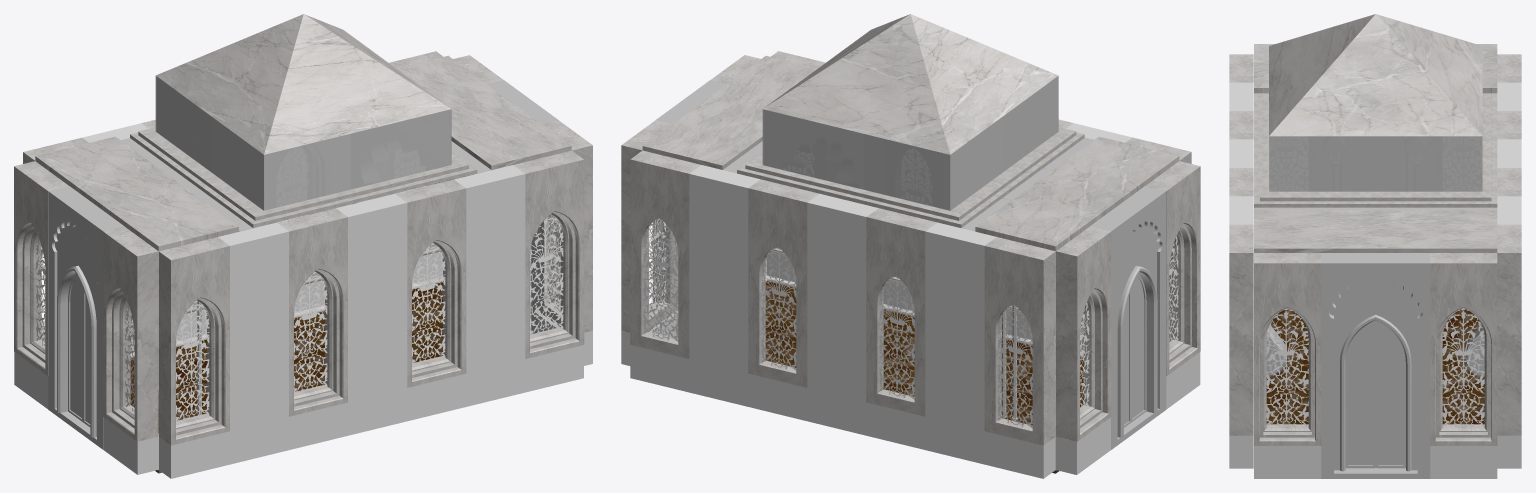
The model's file is thinkimgonnadieinthishouse.fbx.
The picture shows the model from 3 angles, left to right: view 1: azimuth 30°, elevation 25°; view 2: azimuth 150°, elevation 25°; view 3: azimuth 270°, elevation 25°; orthographic projection.
Visible parts, largest first — view 1: Cube, Cube.001, Group_38.001, Group_38.002, Group_38.003, Group_12, Component_12_9.005, Component_12_9.004, Polygon, Component_12_9.002, Component_12_9.003, Group_11 (+23 smaller); view 2: Cube, Cube.001, Group_38.004, Group_38.005, Group_38.006, Group_12, Component_12_9.006, Component_12_9.010, Polygon, Component_12_9.008, Component_12_9.007, Component_12_9.009 (+27 smaller); view 3: Cube, Polygon.001, Cube.001, Group_11, Component_12_9.011, Component_12_9.012, Group_59, Component_12_9.003, Component_12_9.009, Group_4, Group_6.001, Group_7.001 (+21 smaller).
Boxes of the visible parts, x1,y1,x2,y2 form: Cube: (156, 14, 450, 154); Cube.001: (155, 76, 451, 210); Group_38.001: (454, 165, 525, 373); Group_38.002: (336, 194, 407, 402); Group_38.003: (218, 222, 288, 431); Group_12: (35, 136, 238, 253); Component_12_9.005: (103, 226, 158, 441); Component_12_9.004: (159, 237, 229, 445); Polygon: (48, 186, 123, 449); Component_12_9.002: (395, 179, 466, 387); Component_12_9.003: (513, 150, 584, 358); Group_11: (396, 55, 571, 169); Cube: (763, 14, 1058, 154); Cube.001: (762, 76, 1058, 210); Group_38.004: (689, 165, 759, 373); Group_38.005: (807, 193, 878, 402); Group_38.006: (925, 222, 995, 430); Group_12: (975, 136, 1179, 251); Component_12_9.006: (1056, 226, 1111, 441); Component_12_9.010: (984, 237, 1055, 445); Polygon: (1090, 186, 1166, 449); Component_12_9.008: (748, 179, 818, 387); Component_12_9.007: (866, 208, 937, 416); Component_12_9.009: (630, 150, 700, 358); Cube: (1269, 14, 1482, 136); Polygon.001: (1321, 253, 1430, 478); Cube.001: (1269, 136, 1482, 191); Group_11: (1254, 210, 1497, 252); Component_12_9.011: (1254, 253, 1321, 445); Component_12_9.012: (1430, 253, 1497, 445); Group_59: (1266, 308, 1484, 424); Component_12_9.003: (1229, 224, 1253, 435); Component_12_9.009: (1497, 224, 1521, 435); Group_4: (1260, 95, 1491, 201); Group_6.001: (1375, 320, 1405, 468); Group_7.001: (1345, 320, 1375, 468).
Size of the model in its own units: 1550 by 1179 by 869.
